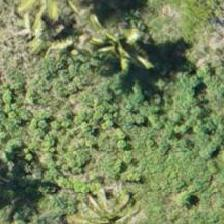coconut_tree: (73, 0, 163, 86), (63, 172, 153, 223)
